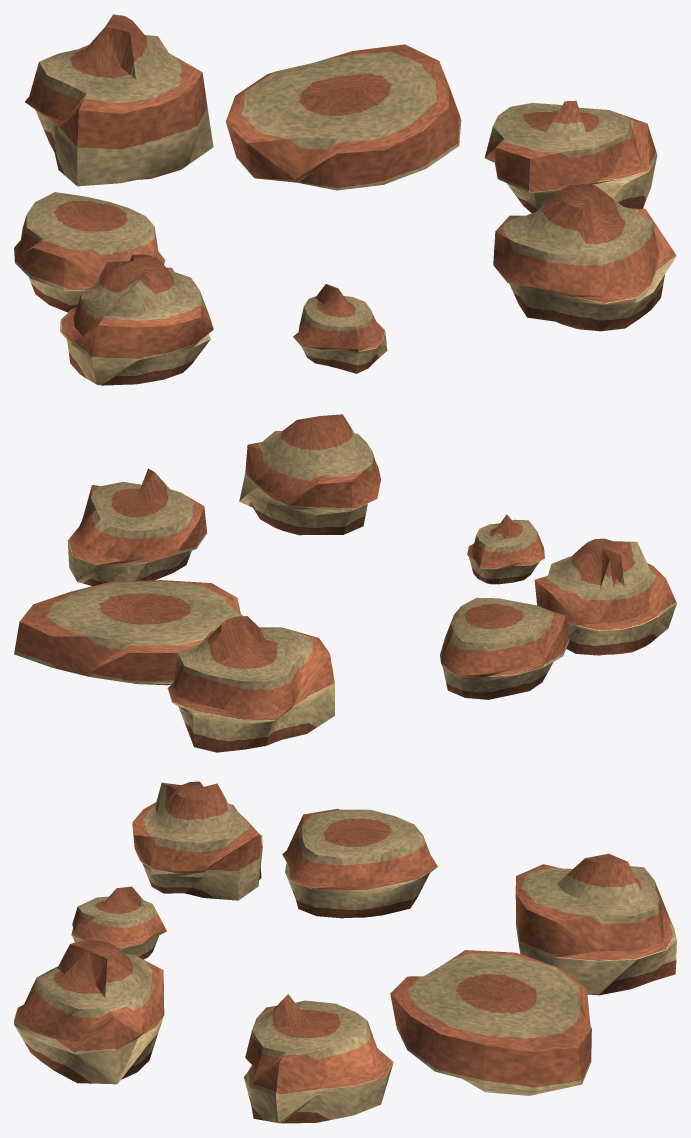
Rendered from SM_Desert_PebbleCluster_A.glb.
3 views of the same model, one above another, from view 1: azimuth 30°, elevation 25°; view 2: azimuth 150°, elevation 25°; view 3: azimuth 270°, elevation 25° (orthographic). The views are drawn at different scales.
Parts seen in each view (by area): view 1: SM_Desert_PebbleCluster_A; view 2: SM_Desert_PebbleCluster_A; view 3: SM_Desert_PebbleCluster_A.
Part boxes in pixels (x1=…): SM_Desert_PebbleCluster_A: x1=14, y1=14, x2=676, y2=385; SM_Desert_PebbleCluster_A: x1=14, y1=414, x2=676, y2=752; SM_Desert_PebbleCluster_A: x1=14, y1=781, x2=676, y2=1123.
Bounding box in the file's own units: 0.7714 × 0.1517 × 0.7712.
Materials: 1 (1 with a texture image).
